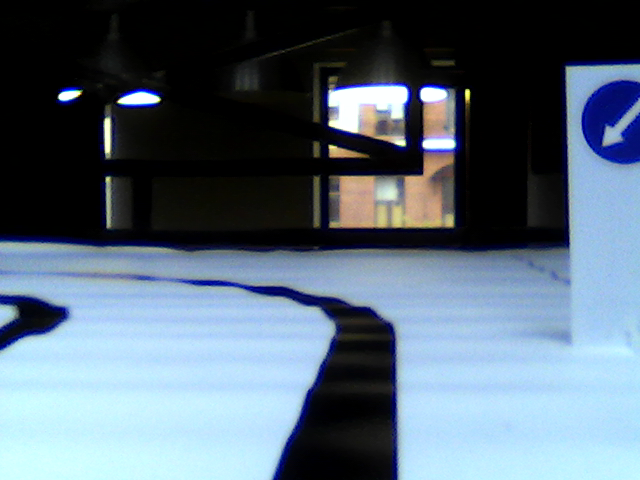prep: (579, 76, 640, 173)
